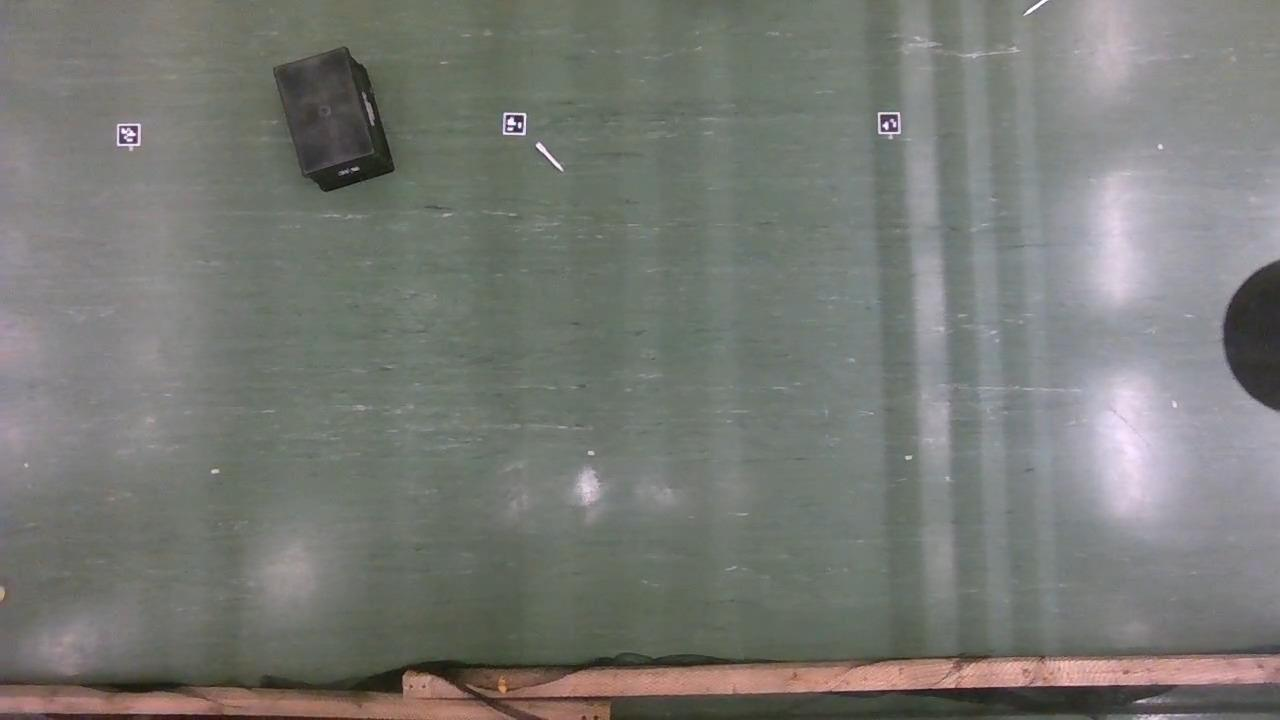probes: (538, 142, 564, 173), (1027, 0, 1047, 16)
rako: (274, 49, 395, 195)
